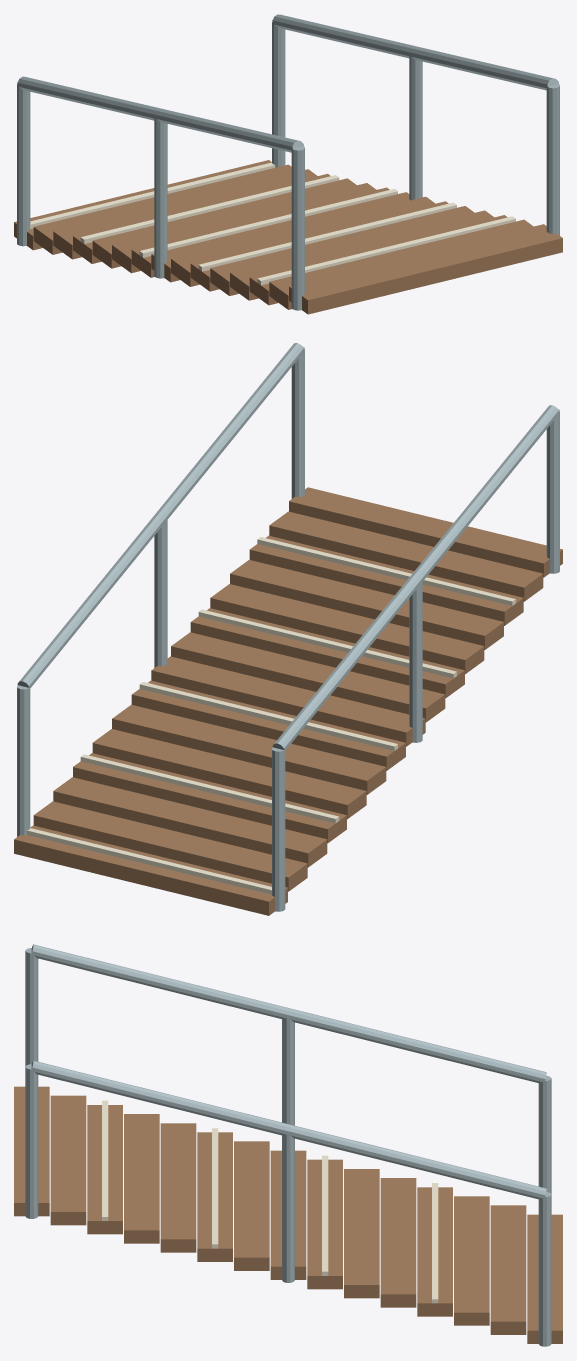
Rendered from harbor-and-tackle-gangway-21730bd6__19554.glb.
3 views of the same model, one above another, from view 1: azimuth 30°, elevation 25°; view 2: azimuth 150°, elevation 25°; view 3: azimuth 270°, elevation 25° (orthographic). The views are drawn at different scales.
Visible parts, largest first — view 1: cedar, metal, ivory; view 2: cedar, metal, ivory; view 3: cedar, metal, ivory.
Boxes of the visible parts, x1,y1,x2,y2 form: cedar: (14,160,562,314); metal: (17,14,559,310); ivory: (30,162,515,285); cedar: (14,487,562,915); metal: (17,343,559,911); ivory: (26,537,515,894); cedar: (14,1086,562,1343); metal: (25,944,551,1346); ivory: (102,1100,438,1303).
Size of the model in its own units: 1.57 by 1.7 by 2.99.
